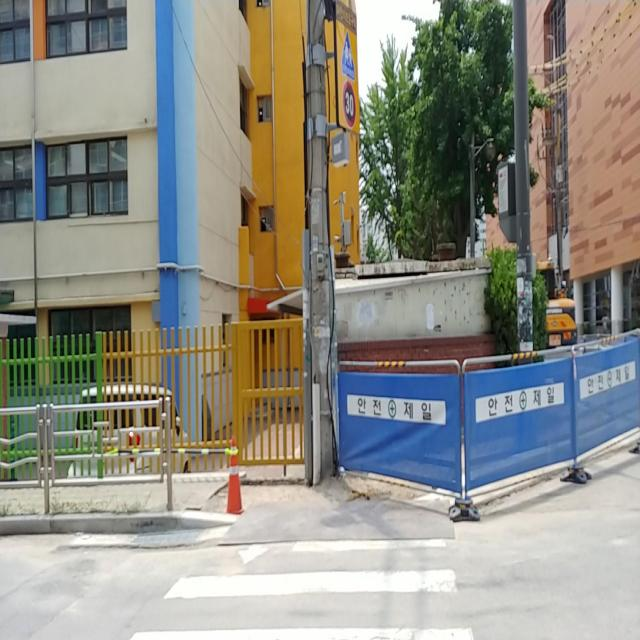횡단보도: (130, 536, 477, 639)
